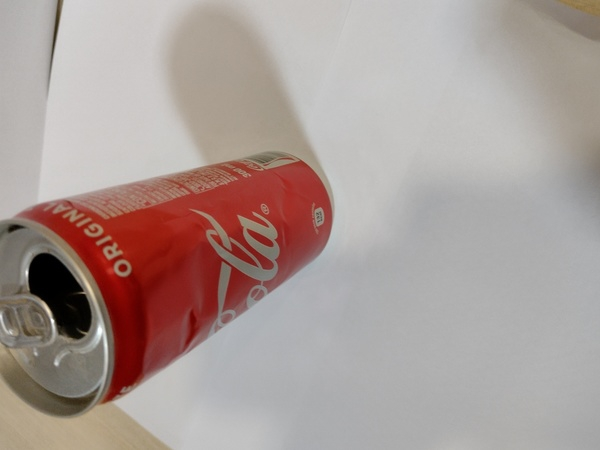can: (2, 141, 339, 434)
